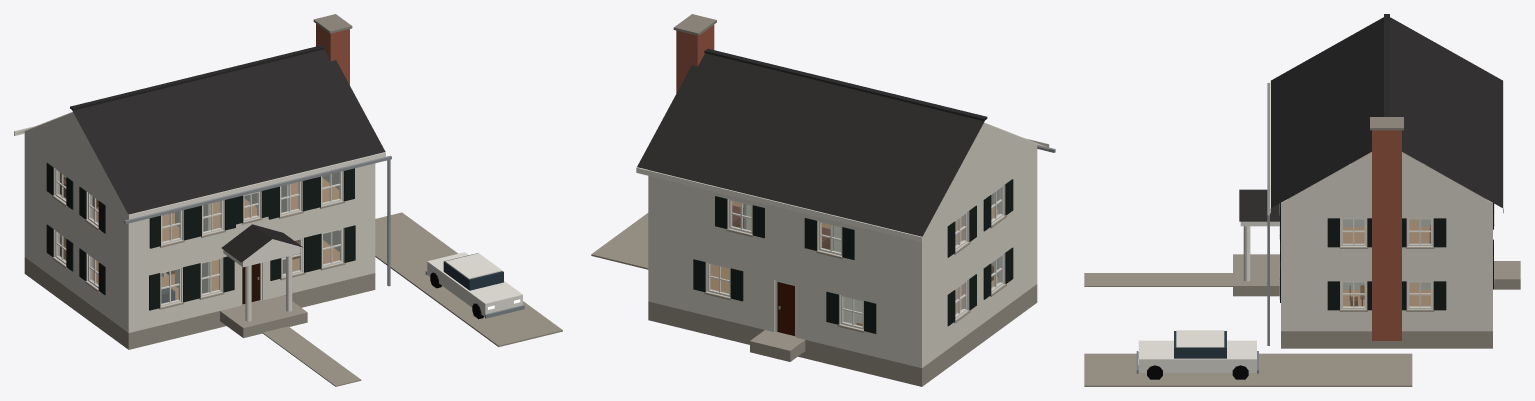
File: colonial.glb
3 views of the same model, side by side, from view 1: azimuth 30°, elevation 25°; view 2: azimuth 150°, elevation 25°; view 3: azimuth 270°, elevation 25° (orthographic). The views are drawn at different scales.
Parts seen in each view (by area): view 1: LOD0, LEAF0, FURN; view 2: LOD0, LEAF1, FURN; view 3: LOD0.
Boxes of the visible parts, x1,y1,x2,y2 form: LOD0: [14, 14, 562, 386]; LEAF0: [242, 263, 260, 304]; FURN: [60, 172, 299, 303]; LOD0: [591, 14, 1055, 386]; LEAF1: [777, 282, 794, 335]; FURN: [732, 205, 993, 325]; LOD0: [1084, 14, 1520, 386].
Size of what is drawn, in the model's own units: 16.21 by 10.1 by 17.3.
